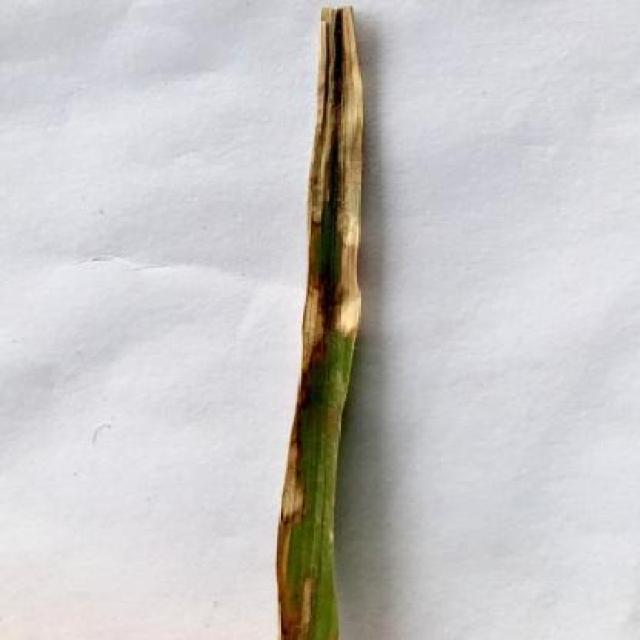Brown_Spot: (270, 0, 378, 640)
